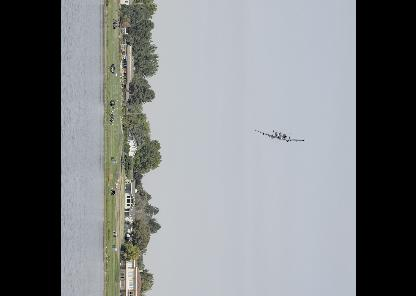A10: (255, 129, 306, 141)
